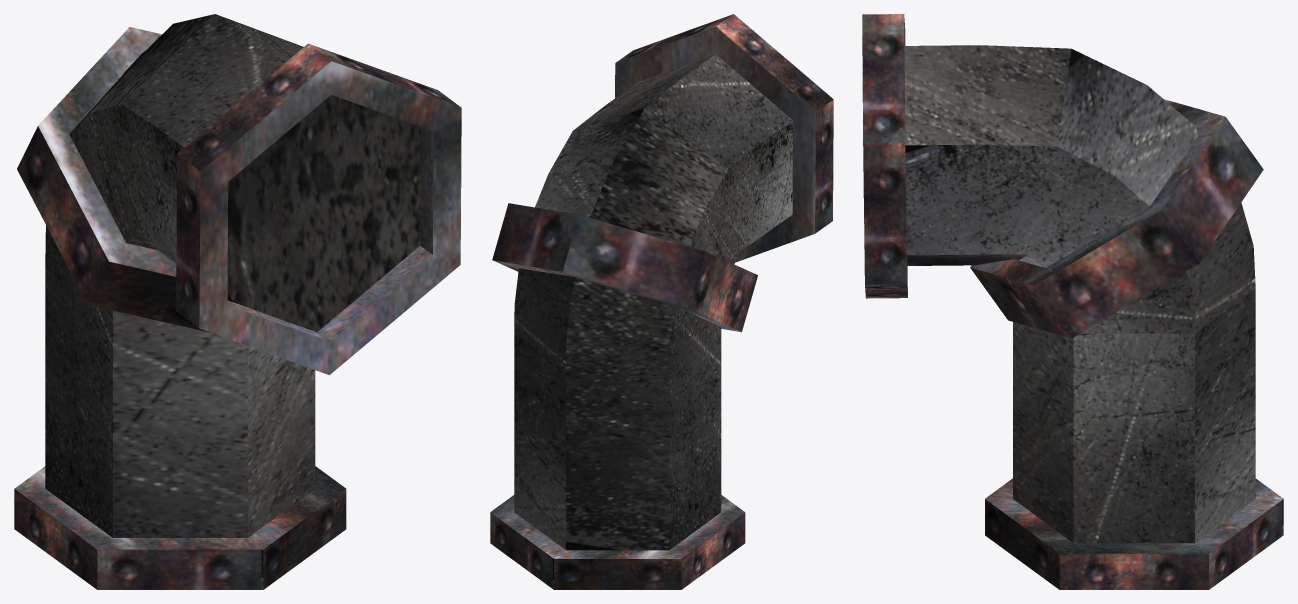
File: lpipetest1.gltf
3 renders of one model, left to right at view 1: azimuth 30°, elevation 25°; view 2: azimuth 150°, elevation 25°; view 3: azimuth 270°, elevation 25°, orthographic. The views are drawn at different scales.
Parts seen in each view (by area): view 1: Cylinder; view 2: Cylinder; view 3: Cylinder.
Boxes of the visible parts, bbox=[...] form: Cylinder: bbox=[14, 14, 461, 589]; Cylinder: bbox=[490, 14, 833, 589]; Cylinder: bbox=[862, 14, 1283, 589].
Bounding box in the file's own units: 1.82 × 3.85 × 2.82.
Materials: 1 (1 with a texture image).
